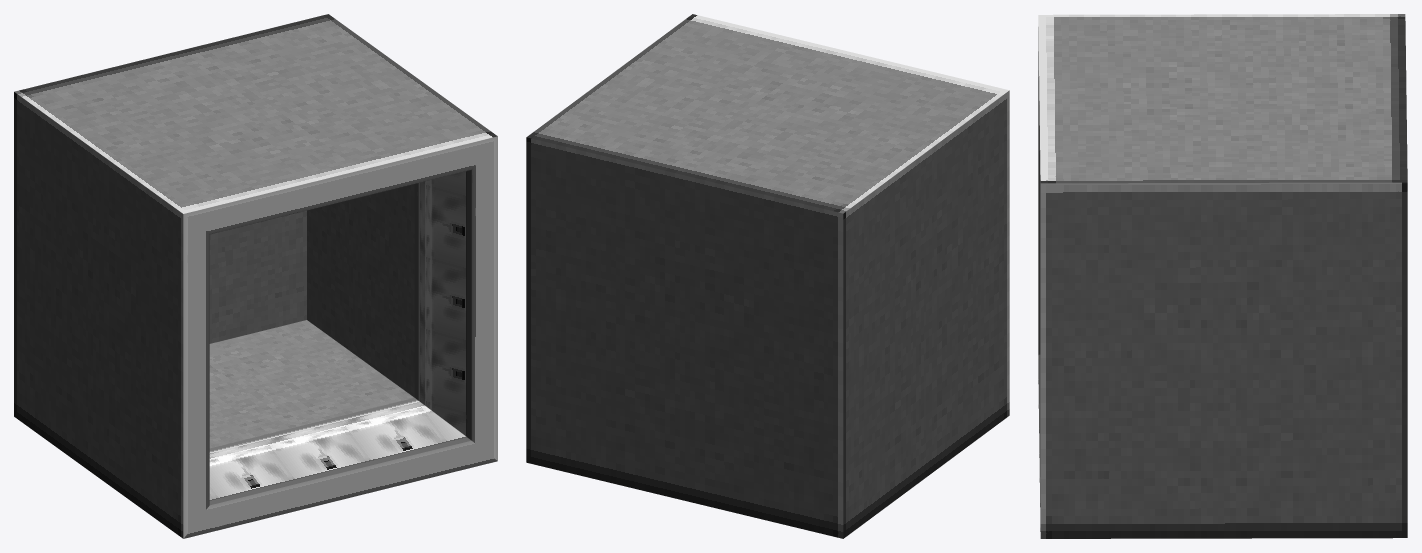
The model's file is metal_safe.glb.
3 renders of one model, left to right at view 1: azimuth 30°, elevation 25°; view 2: azimuth 150°, elevation 25°; view 3: azimuth 270°, elevation 25°, orthographic. The views are drawn at different scales.
Parts seen in each view (by area): view 1: Object; view 2: Object; view 3: Object.
Boxes of the visible parts, left/top/right/bottom form: Object: left=14, top=14, right=497, bottom=538; Object: left=526, top=14, right=1009, bottom=538; Object: left=1038, top=14, right=1407, bottom=538.
Bounding box in the file's own units: 1.41 × 1.38 × 1.3.
Materials: 12 (12 with a texture image).
